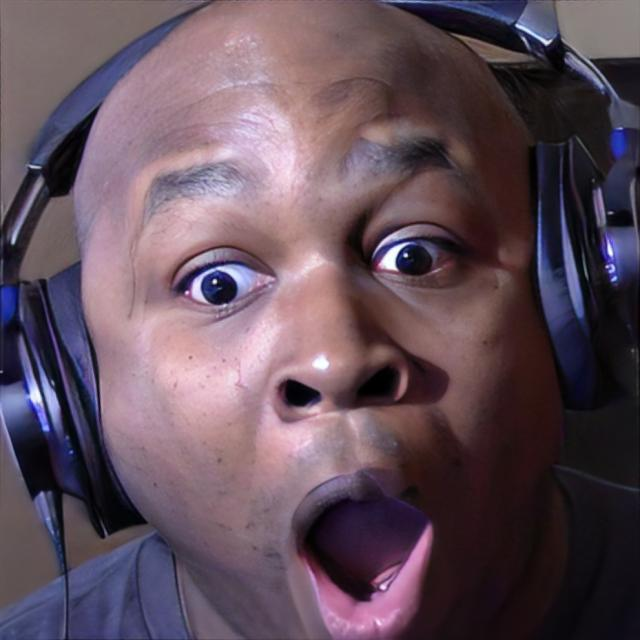Fear: (77, 0, 567, 640)
